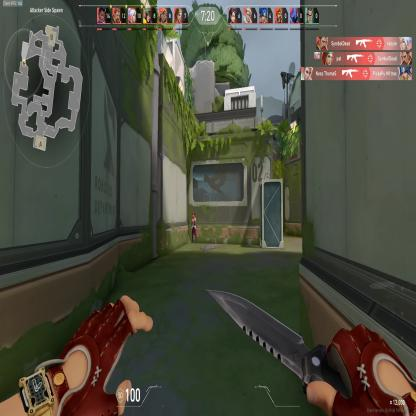enemy: (191, 210, 197, 244)
